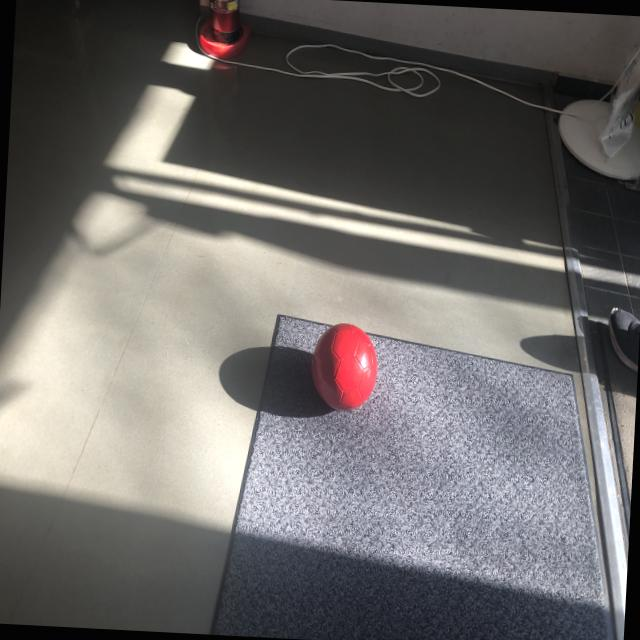red_ball: (310, 322, 380, 412)
